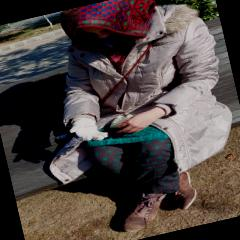gloved: (65, 111, 111, 146)
not-gloved: (108, 106, 168, 138)
